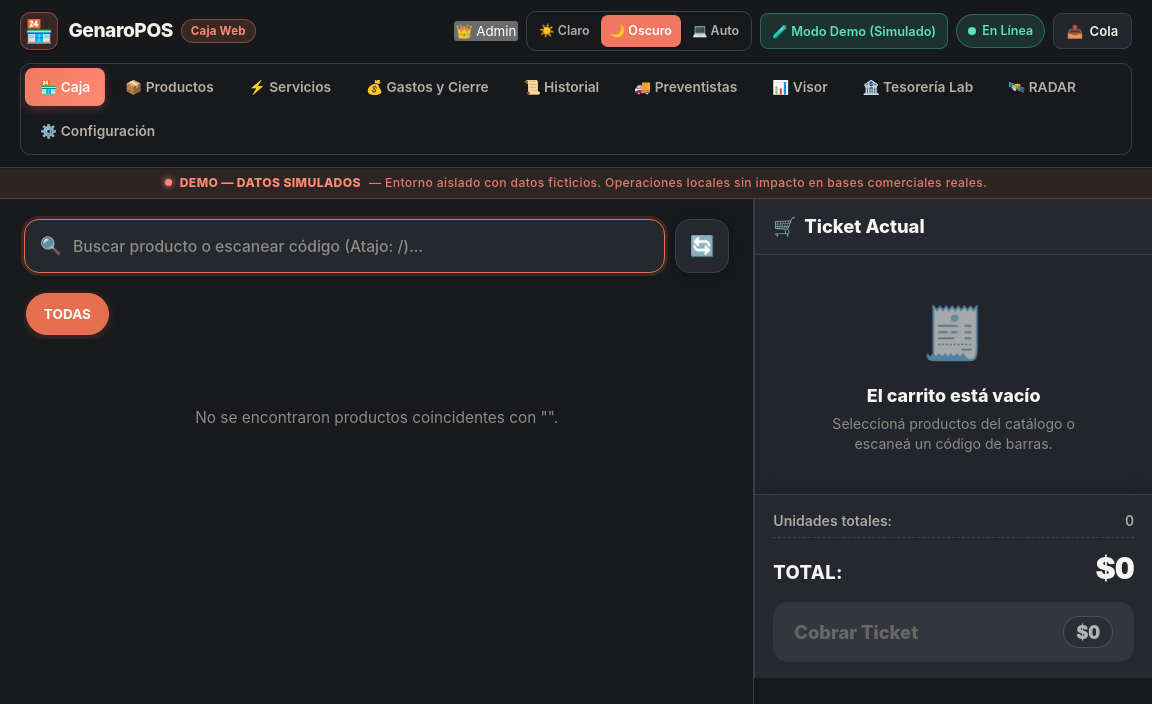
Test case: GenaroPOS — Módulo de Servicios y Cargas (Frontend / IndexedDB) › 1. Permite alternar la navegación hacia el módulo de Servicios mediante el Header
Expected: the field with test id "search-input" is shown, [24, 219, 665, 273]
Note: Clic en pestaña '⚡ Servicios'
Click the button with test id "nav-btn-servicios" at (290, 87), box [234, 68, 346, 106]
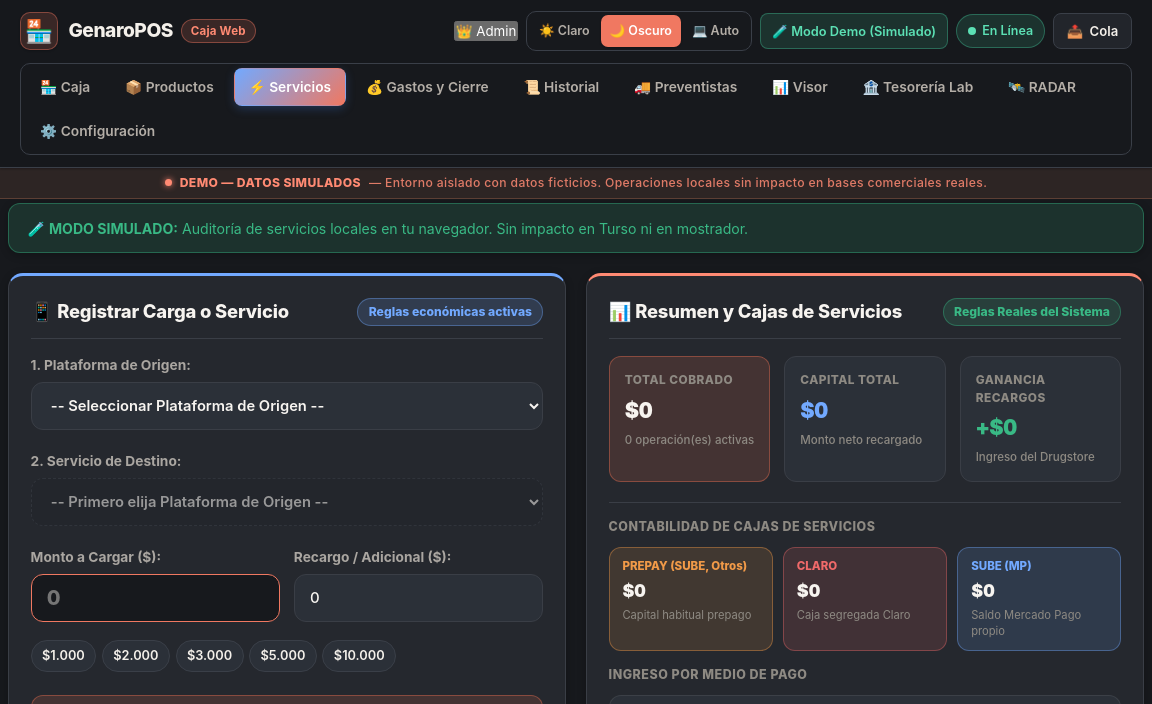
Expected: the field with test id "search-input" is gone
Note: Regresar a Caja
Click the button with test id "nav-btn-caja" at (65, 87), box [26, 68, 105, 106]
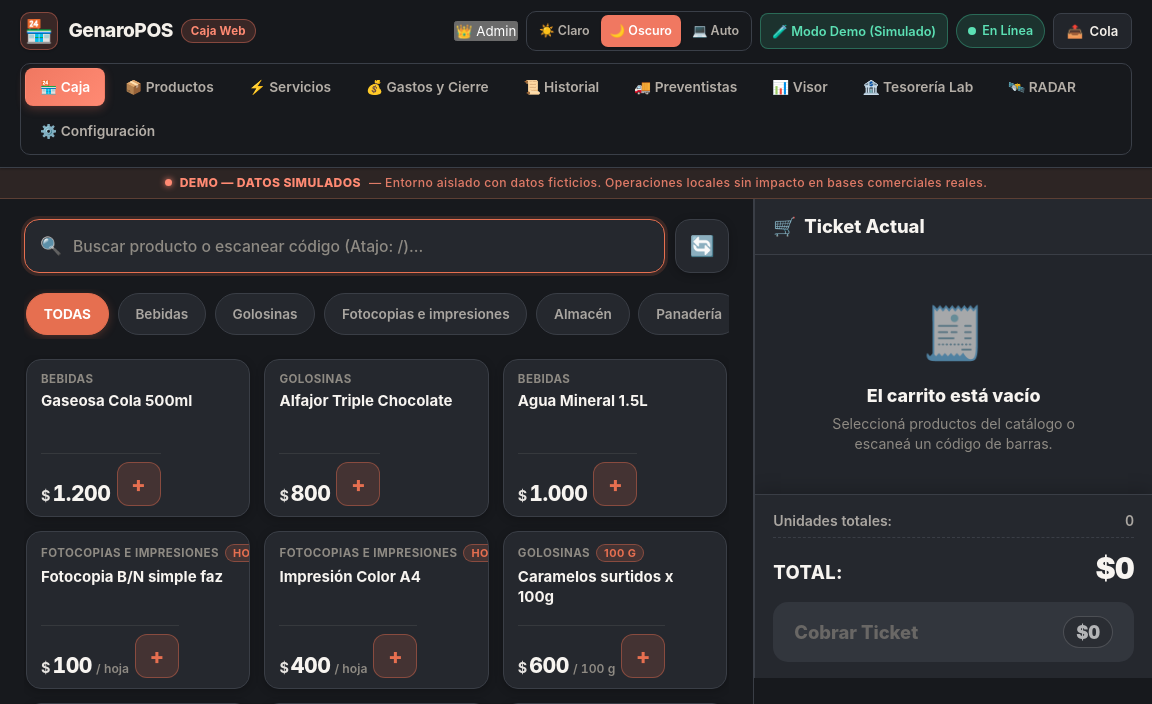
Expected: the field with test id "search-input" is shown, [24, 219, 665, 273]
